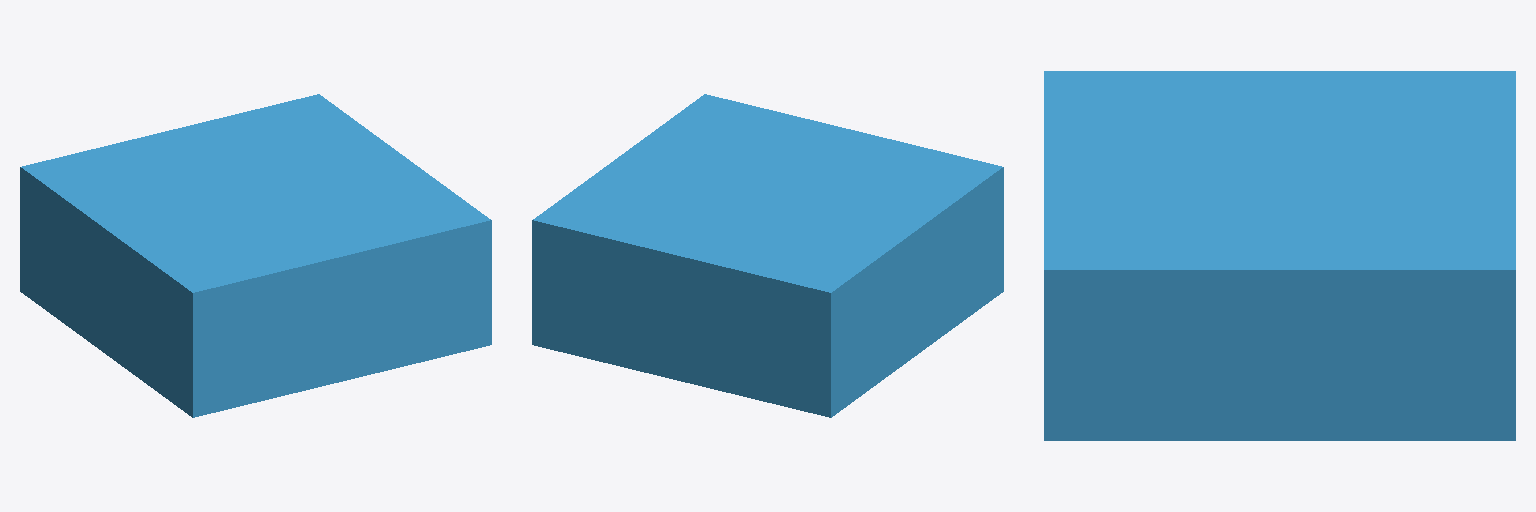
URDF robot description (rotom):
<?xml version="1.0"?>
<robot name="rotom">
    <link name="world"/>
    <link name="base_link">
        <visual>
            <geometry>
                <box size="0.5 0.5 0.2"/>
            </geometry>
            <origin xyz="0 0 0" rpy="0 0 0"/>
        </visual>
    </link>
    <joint name="base_to_world" type="fixed">
        <parent link="world"/>
        <child link="base_link"/>
        <origin xyz="0 0 0" rpy="0 0 0"/>
    </joint>
</robot>

--- What the picture shows (computed from the rendered views, not written in the file) ---
3 views of the same robot in one strip: view 1: azimuth 30°, elevation 25°; view 2: azimuth 150°, elevation 25°; view 3: azimuth 270°, elevation 25° (orthographic).
Robot: rotom — 2 links, 1 joints (1 fixed); root link world; default pose: all joints at 0.
Visible links, largest first — view 1: base_link; view 2: base_link; view 3: base_link.
Link boxes in pixels (box(x1,y1,x2,y2)): base_link: box(20, 94, 491, 417); base_link: box(532, 94, 1003, 417); base_link: box(1044, 71, 1515, 440).
Size in the robot's own frame: 0.5 by 0.5 by 0.2 metres.
Geometry: primitives only (box / cylinder / sphere), no mesh files.